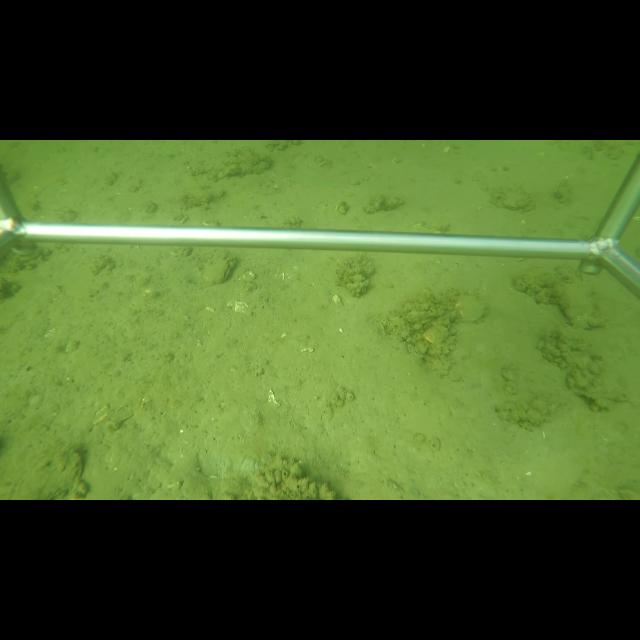Oyster-Closed: (552, 269, 609, 335), (201, 250, 236, 285), (494, 186, 534, 213), (456, 294, 489, 324)
